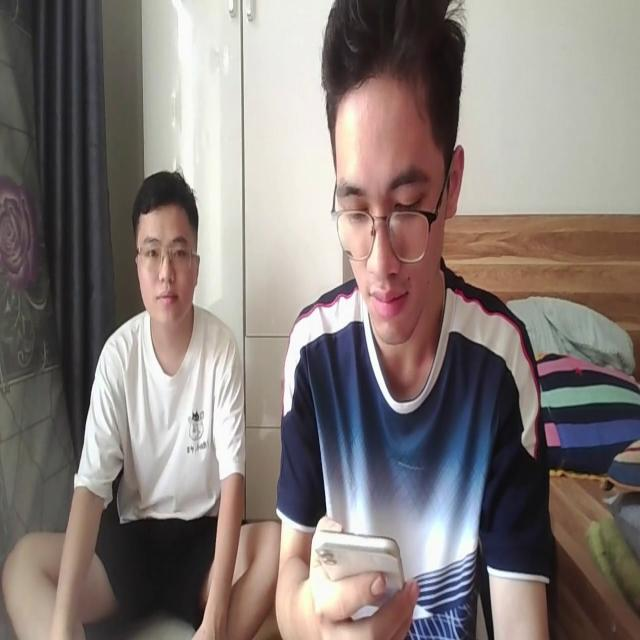extra_person: (0, 164, 282, 640)
student: (276, 0, 553, 640)
